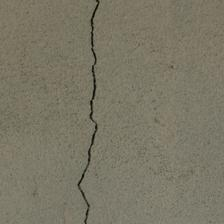Crack: (37, 1, 71, 220)
